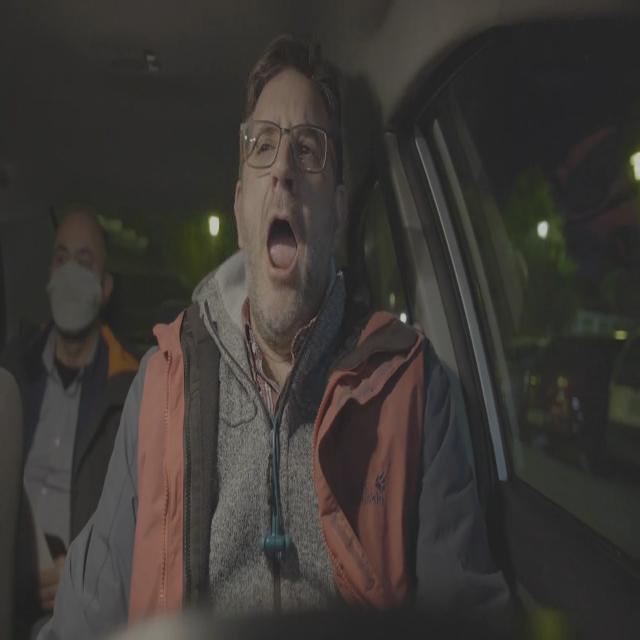Yawn: (220, 18, 364, 381)
